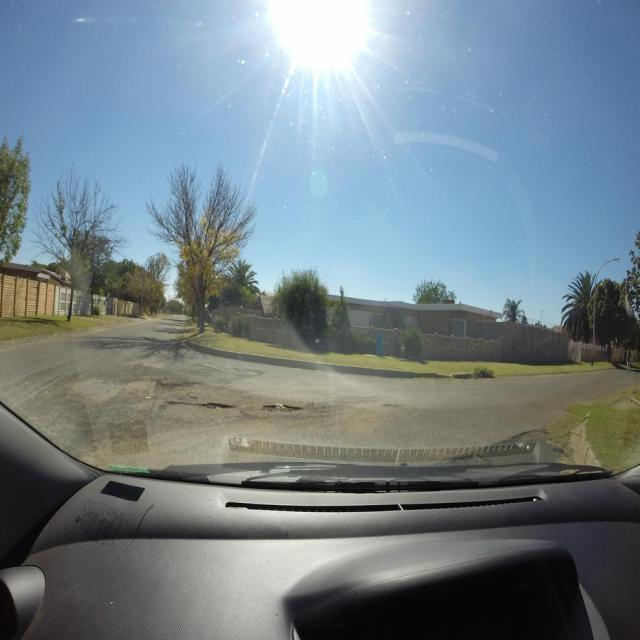pothole: (261, 404, 304, 413), (166, 401, 200, 409), (201, 402, 233, 409), (382, 403, 397, 408)
